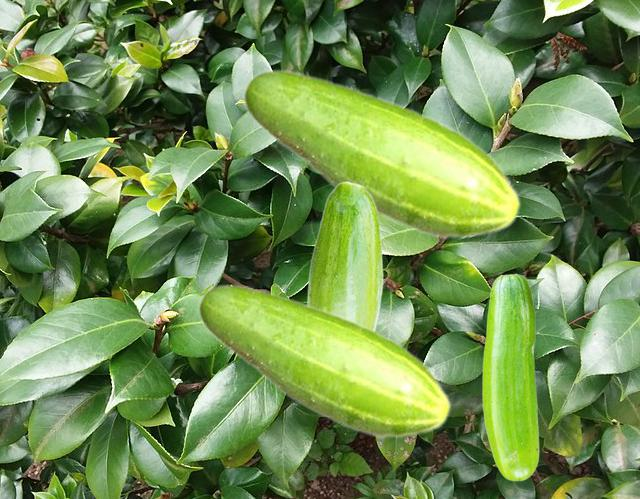cucumber: (242, 68, 521, 240), (197, 283, 451, 439), (482, 273, 538, 480), (306, 181, 382, 328)
